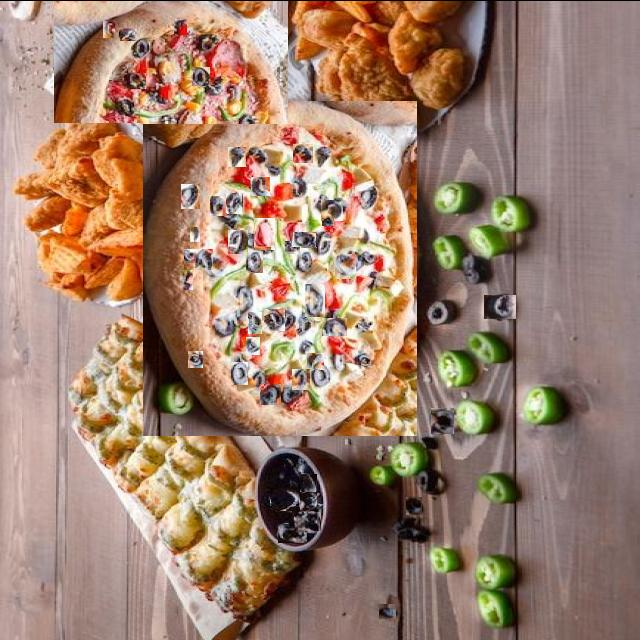olive: (390, 517, 432, 542), (461, 252, 489, 284), (484, 294, 516, 318), (270, 486, 299, 511), (254, 217, 275, 248), (428, 297, 452, 324), (305, 283, 325, 315), (278, 520, 307, 542), (431, 407, 454, 433), (412, 469, 437, 492), (294, 511, 321, 530), (335, 253, 356, 277), (264, 306, 285, 328), (228, 229, 248, 252), (181, 183, 200, 207), (321, 199, 343, 219), (322, 317, 347, 334), (260, 383, 281, 403), (218, 308, 237, 329), (231, 361, 248, 383), (246, 248, 263, 270), (292, 368, 310, 388), (195, 248, 213, 268), (228, 144, 246, 164), (252, 176, 272, 194), (293, 143, 313, 161), (294, 231, 318, 246), (124, 72, 146, 88), (294, 457, 313, 475), (192, 66, 210, 85), (205, 6, 224, 24), (226, 192, 243, 212), (210, 195, 227, 214), (300, 473, 317, 492), (300, 491, 317, 510), (185, 314, 205, 330), (248, 311, 262, 332), (212, 351, 228, 369), (308, 352, 326, 368), (406, 496, 422, 514), (420, 432, 438, 448), (277, 465, 293, 483), (379, 603, 396, 618), (180, 269, 193, 288), (188, 350, 203, 366), (278, 160, 294, 175), (246, 336, 260, 353), (119, 27, 137, 40), (174, 18, 187, 34), (103, 20, 115, 37), (84, 0, 104, 10), (286, 240, 302, 252), (278, 510, 292, 523), (313, 491, 324, 506), (165, 0, 183, 9), (184, 248, 196, 261), (190, 226, 200, 240), (284, 456, 296, 466), (290, 479, 301, 487), (322, 217, 334, 224), (118, 38, 128, 46)
pizza: (143, 98, 417, 434), (54, 0, 288, 122)
